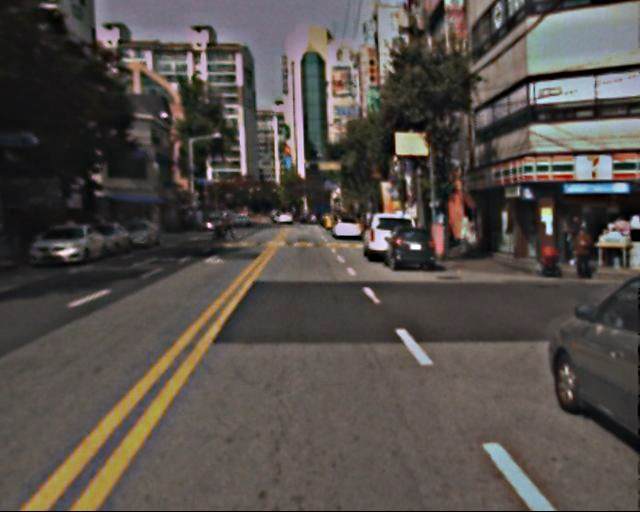person: (571, 218, 599, 284), (222, 212, 236, 246)
